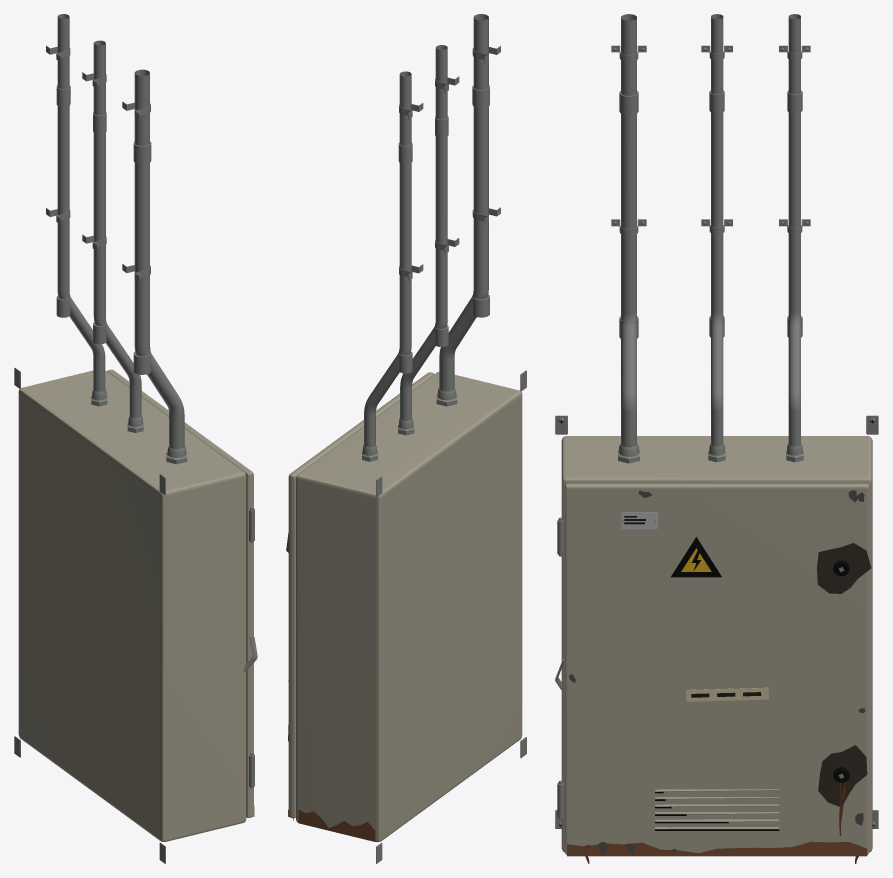
File: junction_box.glb
3 views of the same model, side by side, from view 1: azimuth 30°, elevation 25°; view 2: azimuth 150°, elevation 25°; view 3: azimuth 270°, elevation 25° (orthographic). The views are drawn at different scales.
Visible parts, largest first — view 1: verteiler3, verteiler0; view 2: verteiler3, verteiler0, verteiler10; view 3: verteiler3, verteiler0, verteiler4, verteiler10, verteiler2, verteiler9.
Boxes of the visible parts, left/top/right/bottom form: verteiler3: left=18, top=369, right=253, bottom=841; verteiler0: left=14, top=14, right=257, bottom=863; verteiler3: left=288, top=372, right=522, bottom=842; verteiler0: left=362, top=14, right=526, bottom=863; verteiler10: left=288, top=809, right=375, bottom=841; verteiler3: left=561, top=436, right=872, bottom=854; verteiler0: left=555, top=14, right=878, bottom=828; verteiler4: left=817, top=543, right=871, bottom=806; verteiler10: left=567, top=841, right=867, bottom=856; verteiler2: left=559, top=419, right=874, bottom=826; verteiler9: left=686, top=687, right=768, bottom=701.
Bounding box in the file's own units: 0.234 × 1.74 × 0.6245.
